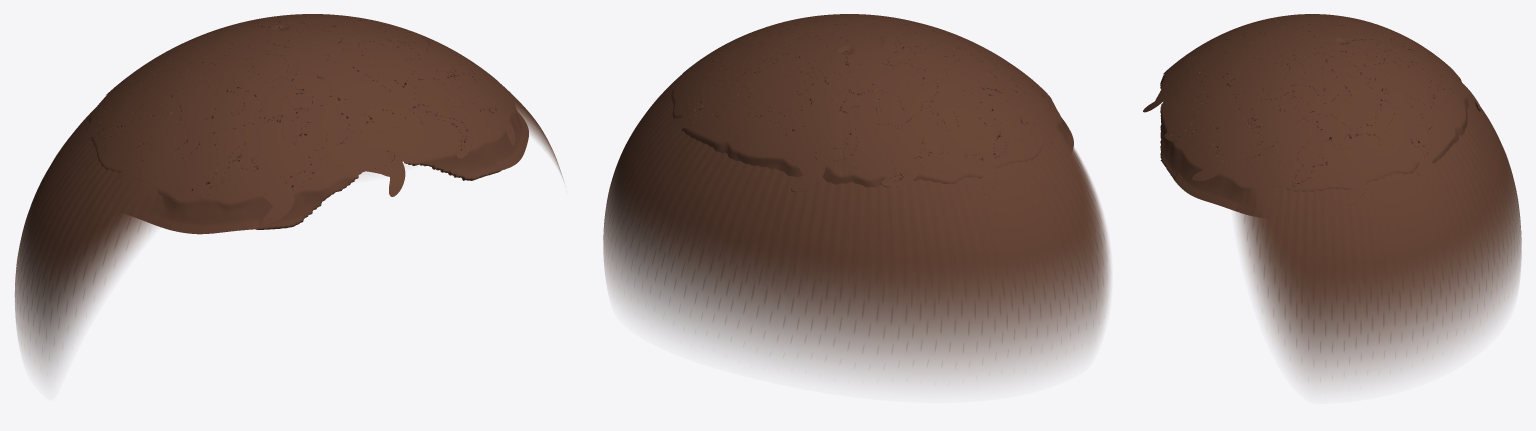
Rendered from Masculine-curly-top-cap257-hair.glb.
3 views of the same model, side by side, from view 1: azimuth 30°, elevation 25°; view 2: azimuth 150°, elevation 25°; view 3: azimuth 270°, elevation 25° (orthographic). The views are drawn at different scales.
Parts seen in each view (by area): view 1: 226 hair / Hair252 / sculpted curl groups, 226 hair / Hair257 / smooth side fade, 226 hair / Hair257 / directional fade marks; view 2: 226 hair / Hair257 / smooth side fade, 226 hair / Hair252 / sculpted curl groups, 226 hair / Hair257 / directional fade marks; view 3: 226 hair / Hair257 / smooth side fade, 226 hair / Hair252 / sculpted curl groups, 226 hair / Hair257 / directional fade marks.
Part boxes in pixels (left/top/right/bottom): 226 hair / Hair252 / sculpted curl groups: left=72, top=14, right=528, bottom=234; 226 hair / Hair257 / smooth side fade: left=15, top=22, right=563, bottom=377; 226 hair / Hair257 / directional fade marks: left=16, top=100, right=537, bottom=337; 226 hair / Hair257 / smooth side fade: left=603, top=14, right=1110, bottom=381; 226 hair / Hair252 / sculpted curl groups: left=661, top=14, right=1073, bottom=194; 226 hair / Hair257 / directional fade marks: left=613, top=79, right=1103, bottom=350; 226 hair / Hair257 / smooth side fade: left=1200, top=14, right=1521, bottom=384; 226 hair / Hair252 / sculpted curl groups: left=1143, top=14, right=1481, bottom=216; 226 hair / Hair257 / directional fade marks: left=1244, top=98, right=1518, bottom=351.
Size of the model in its own units: 0.9723 by 0.584 by 0.7284.
